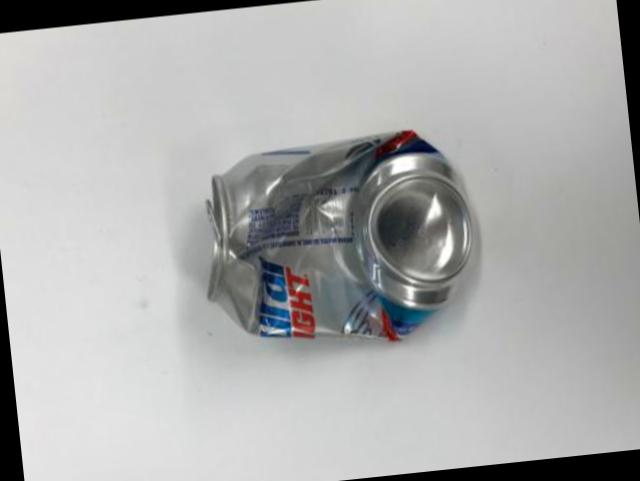metal: (205, 128, 470, 338)
